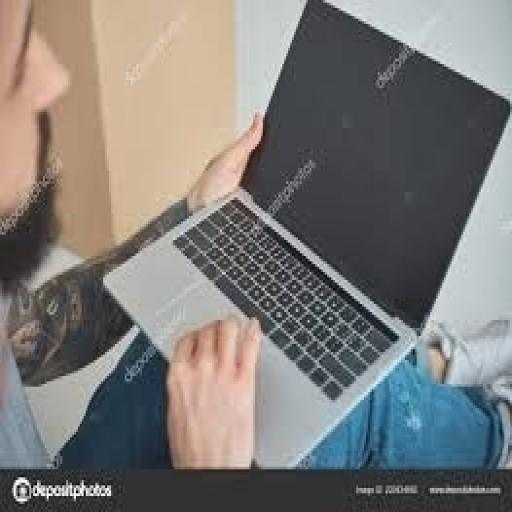using_laptop: (99, 0, 510, 467)
